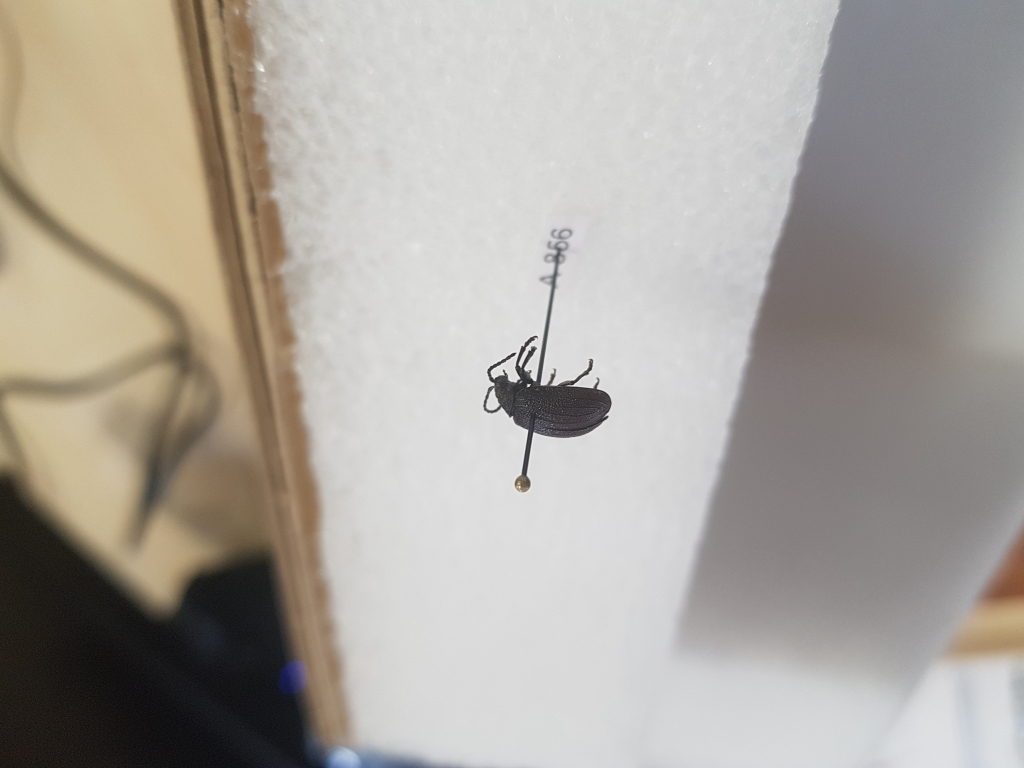Galeruca_tanaceti: (482, 335, 613, 440)
